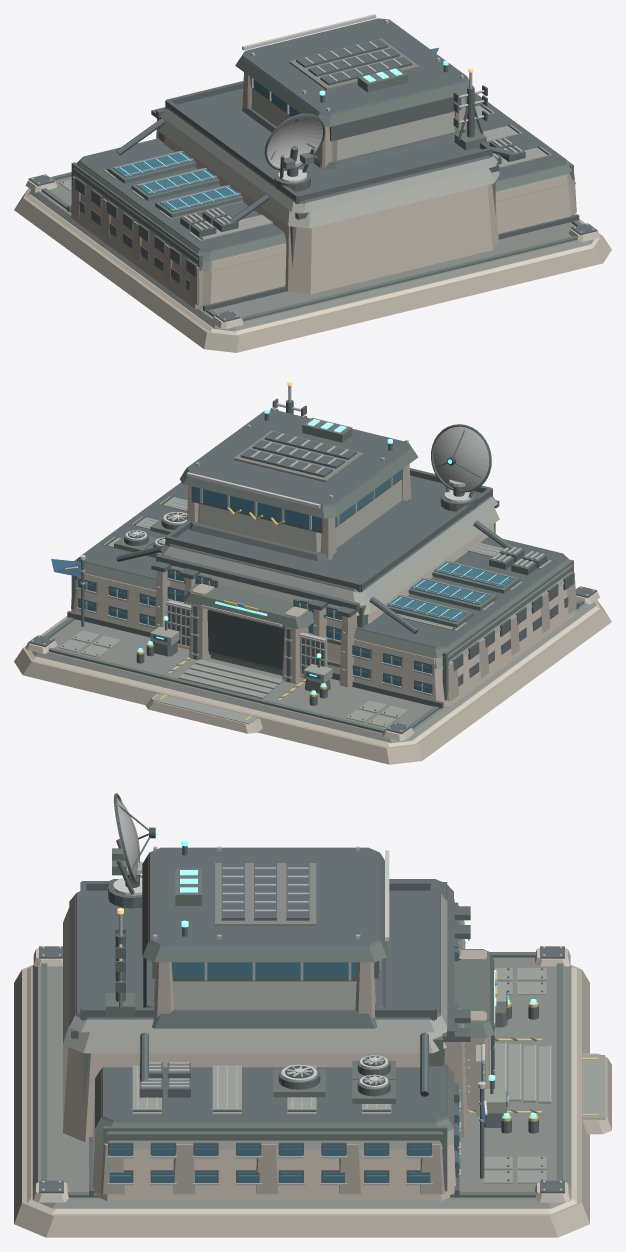
File: sandforge_feldkommando_betriebsbereit.glb
3 views of the same model, one above another, from view 1: azimuth 30°, elevation 25°; view 2: azimuth 150°, elevation 25°; view 3: azimuth 270°, elevation 25° (orthographic). The views are drawn at different scales.
Parts seen in each view (by area): view 1: static__steel_dark, static__concrete_high, static__foundation, static__olive_dark, static__deck, static__olive_light, static__deck_light, static__glass_dark, static__steel, RADAR_DISH__steel_light, static__olive, static__steel_light (+1 smaller); view 2: static__steel_dark, static__foundation, static__olive_dark, static__deck, static__concrete_high, static__deck_light, static__olive_light, static__glass_dark, static__steel, static__recess, RADAR_DISH__steel, static__olive (+5 smaller); view 3: static__steel_dark, static__foundation, static__deck, static__concrete_high, static__olive_dark, static__deck_light, static__olive_light, static__glass_dark, static__steel, static__olive, static__steel_light, RADAR_DISH__steel (+2 smaller).
Part boxes in pixels (x1=…): static__steel_dark: x1=28, y1=18, x2=597, y2=322; static__concrete_high: x1=25, y1=136, x2=600, y2=335; static__foundation: x1=14, y1=72, x2=611, y2=352; static__olive_dark: x1=41, y1=57, x2=581, y2=321; static__deck: x1=29, y1=38, x2=593, y2=331; static__olive_light: x1=158, y1=88, x2=499, y2=228; static__deck_light: x1=59, y1=104, x2=551, y2=240; static__glass_dark: x1=113, y1=77, x2=300, y2=212; static__steel: x1=113, y1=20, x2=575, y2=237; RADAR_DISH__steel_light: x1=267, y1=116, x2=322, y2=167; static__olive: x1=74, y1=173, x2=572, y2=271; static__steel_light: x1=31, y1=14, x2=594, y2=319; static__steel_dark: x1=28, y1=398, x2=597, y2=733; static__foundation: x1=14, y1=464, x2=611, y2=764; static__olive_dark: x1=43, y1=417, x2=584, y2=732; static__deck: x1=32, y1=430, x2=596, y2=743; static__concrete_high: x1=25, y1=524, x2=600, y2=746; static__deck_light: x1=59, y1=496, x2=551, y2=727; static__olive_light: x1=162, y1=479, x2=499, y2=615; static__glass_dark: x1=79, y1=469, x2=515, y2=693; static__steel: x1=76, y1=385, x2=544, y2=698; static__recess: x1=128, y1=512, x2=284, y2=669; RADAR_DISH__steel: x1=433, y1=426, x2=489, y2=490; static__olive: x1=74, y1=571, x2=571, y2=683; static__steel_dark: x1=39, y1=846, x2=564, y2=1197; static__foundation: x1=14, y1=920, x2=611, y2=1237; static__deck: x1=32, y1=863, x2=571, y2=1208; static__concrete_high: x1=27, y1=948, x2=576, y2=1214; static__olive_dark: x1=41, y1=854, x2=563, y2=1197; static__deck_light: x1=69, y1=894, x2=605, y2=1183; static__olive_light: x1=63, y1=907, x2=446, y2=1053; static__glass_dark: x1=109, y1=905, x2=507, y2=1182; static__steel: x1=107, y1=846, x2=551, y2=1185; static__olive: x1=94, y1=988, x2=506, y2=1149; static__steel_light: x1=42, y1=850, x2=561, y2=1190; RADAR_DISH__steel: x1=113, y1=798, x2=142, y2=880.
Size of the model in its own units: 23.8 by 10.49 by 22.42.
